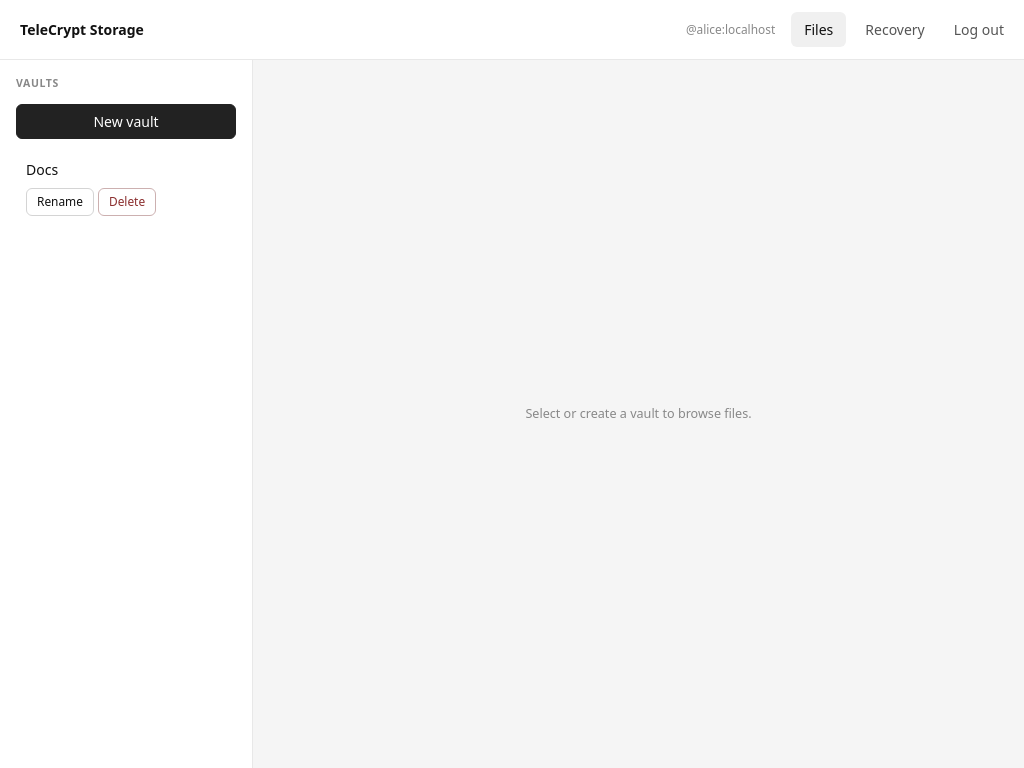
it: vaults › nav up at vault root returns to vault list
Expected: the text with test id "current-user" reads "@alice:localhost", [686, 21, 775, 37]
Click the button "Docs".
click(126, 169)  # box [16, 151, 236, 188]
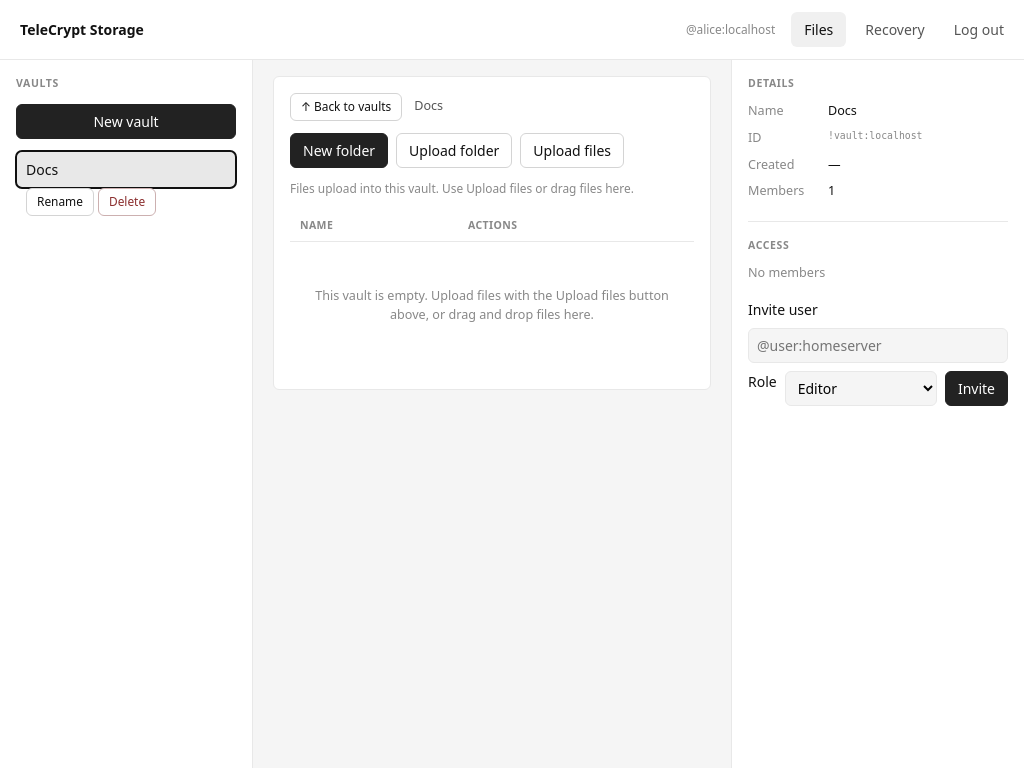
Now the element with test id "vault-detail" is shown, box [273, 76, 711, 390]
Click the button with test id "nav-up".
click(346, 107)  # box [290, 93, 402, 121]
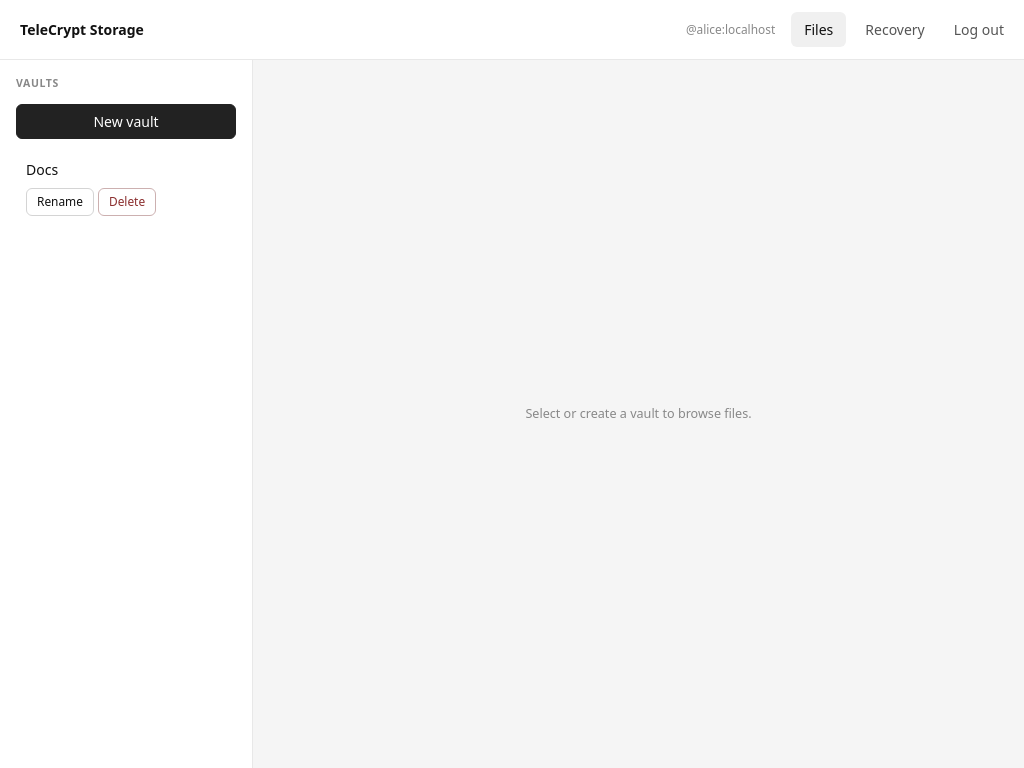
Now the text "Select or create a vault to browse files." is shown, box [525, 404, 752, 422]
